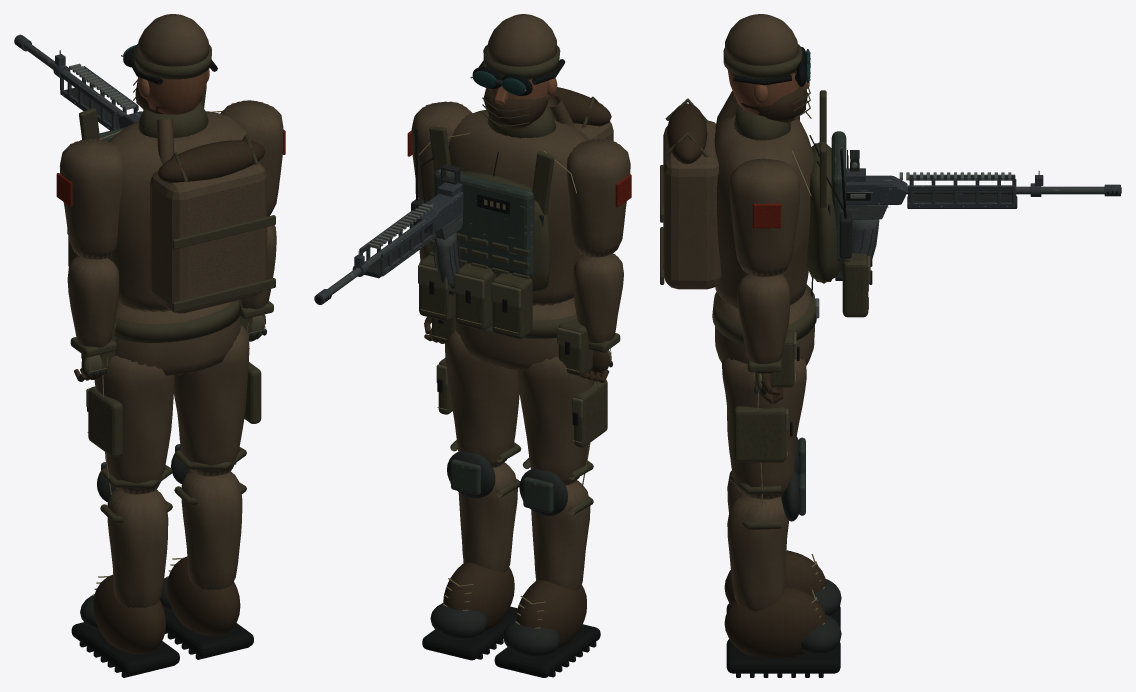
Rendered from raider_flanker.glb.
3 views of the same model, side by side, from view 1: azimuth 30°, elevation 25°; view 2: azimuth 150°, elevation 25°; view 3: azimuth 270°, elevation 25° (orthographic). The views are drawn at different scales.
Visible parts, largest first — view 1: Torso.001_mesh, LeftShin.001_mesh, RightShin.001_mesh, LeftThigh.001_mesh, RightThigh.001_mesh, Hips.001_mesh, Head.001_mesh, LeftArm.001_mesh, LeftForearm.001_mesh, R7_Carbine.002_mesh, RightArm.001_mesh, RightForearm.001_mesh (+1 smaller); view 2: Torso.001_mesh, LeftShin.001_mesh, RightShin.001_mesh, LeftThigh.001_mesh, Head.001_mesh, RightThigh.001_mesh, LeftArm.001_mesh, Hips.001_mesh, R7_Carbine.002_mesh, LeftForearm.001_mesh, RightArm.001_mesh, Magazine.002_mesh (+1 smaller); view 3: Torso.001_mesh, RightShin.001_mesh, RightThigh.001_mesh, Head.001_mesh, R7_Carbine.002_mesh, RightArm.001_mesh, RightForearm.001_mesh, Hips.001_mesh, LeftShin.001_mesh, Magazine.002_mesh.
Boxes of the visible parts, x1,y1,x2,y2 form: Torso.001_mesh: (67, 85, 275, 313); LeftShin.001_mesh: (71, 462, 179, 677); RightShin.001_mesh: (159, 444, 253, 659); LeftThigh.001_mesh: (86, 356, 174, 494); RightThigh.001_mesh: (174, 325, 261, 476); Hips.001_mesh: (81, 299, 252, 375); Head.001_mesh: (121, 14, 217, 164); LeftArm.001_mesh: (56, 138, 124, 259); LeftForearm.001_mesh: (67, 255, 119, 357); R7_Carbine.002_mesh: (14, 34, 143, 130); RightArm.001_mesh: (220, 100, 285, 216); RightForearm.001_mesh: (240, 225, 276, 318); Torso.001_mesh: (411, 87, 613, 339); LeftShin.001_mesh: (494, 457, 600, 677); RightShin.001_mesh: (422, 440, 521, 660); LeftThigh.001_mesh: (517, 356, 607, 485); Head.001_mesh: (470, 14, 574, 129); RightThigh.001_mesh: (436, 330, 519, 467); LeftArm.001_mesh: (567, 139, 631, 257); Hips.001_mesh: (432, 297, 593, 375); R7_Carbine.002_mesh: (314, 164, 463, 304); LeftForearm.001_mesh: (573, 253, 623, 352); RightArm.001_mesh: (407, 101, 472, 201); Magazine.002_mesh: (432, 232, 461, 294); Torso.001_mesh: (660, 90, 872, 317); RightShin.001_mesh: (724, 470, 841, 677); RightThigh.001_mesh: (721, 357, 806, 505); Head.001_mesh: (715, 14, 810, 129); R7_Carbine.002_mesh: (809, 150, 1121, 219); RightArm.001_mesh: (729, 158, 799, 276); RightForearm.001_mesh: (737, 274, 790, 372); Hips.001_mesh: (712, 284, 819, 387); LeftShin.001_mesh: (724, 437, 841, 628); Magazine.002_mesh: (835, 219, 879, 280).
Bounding box in the file's own units: 0.6114 × 1.73 × 1.14.
1 material, 1 textured.
